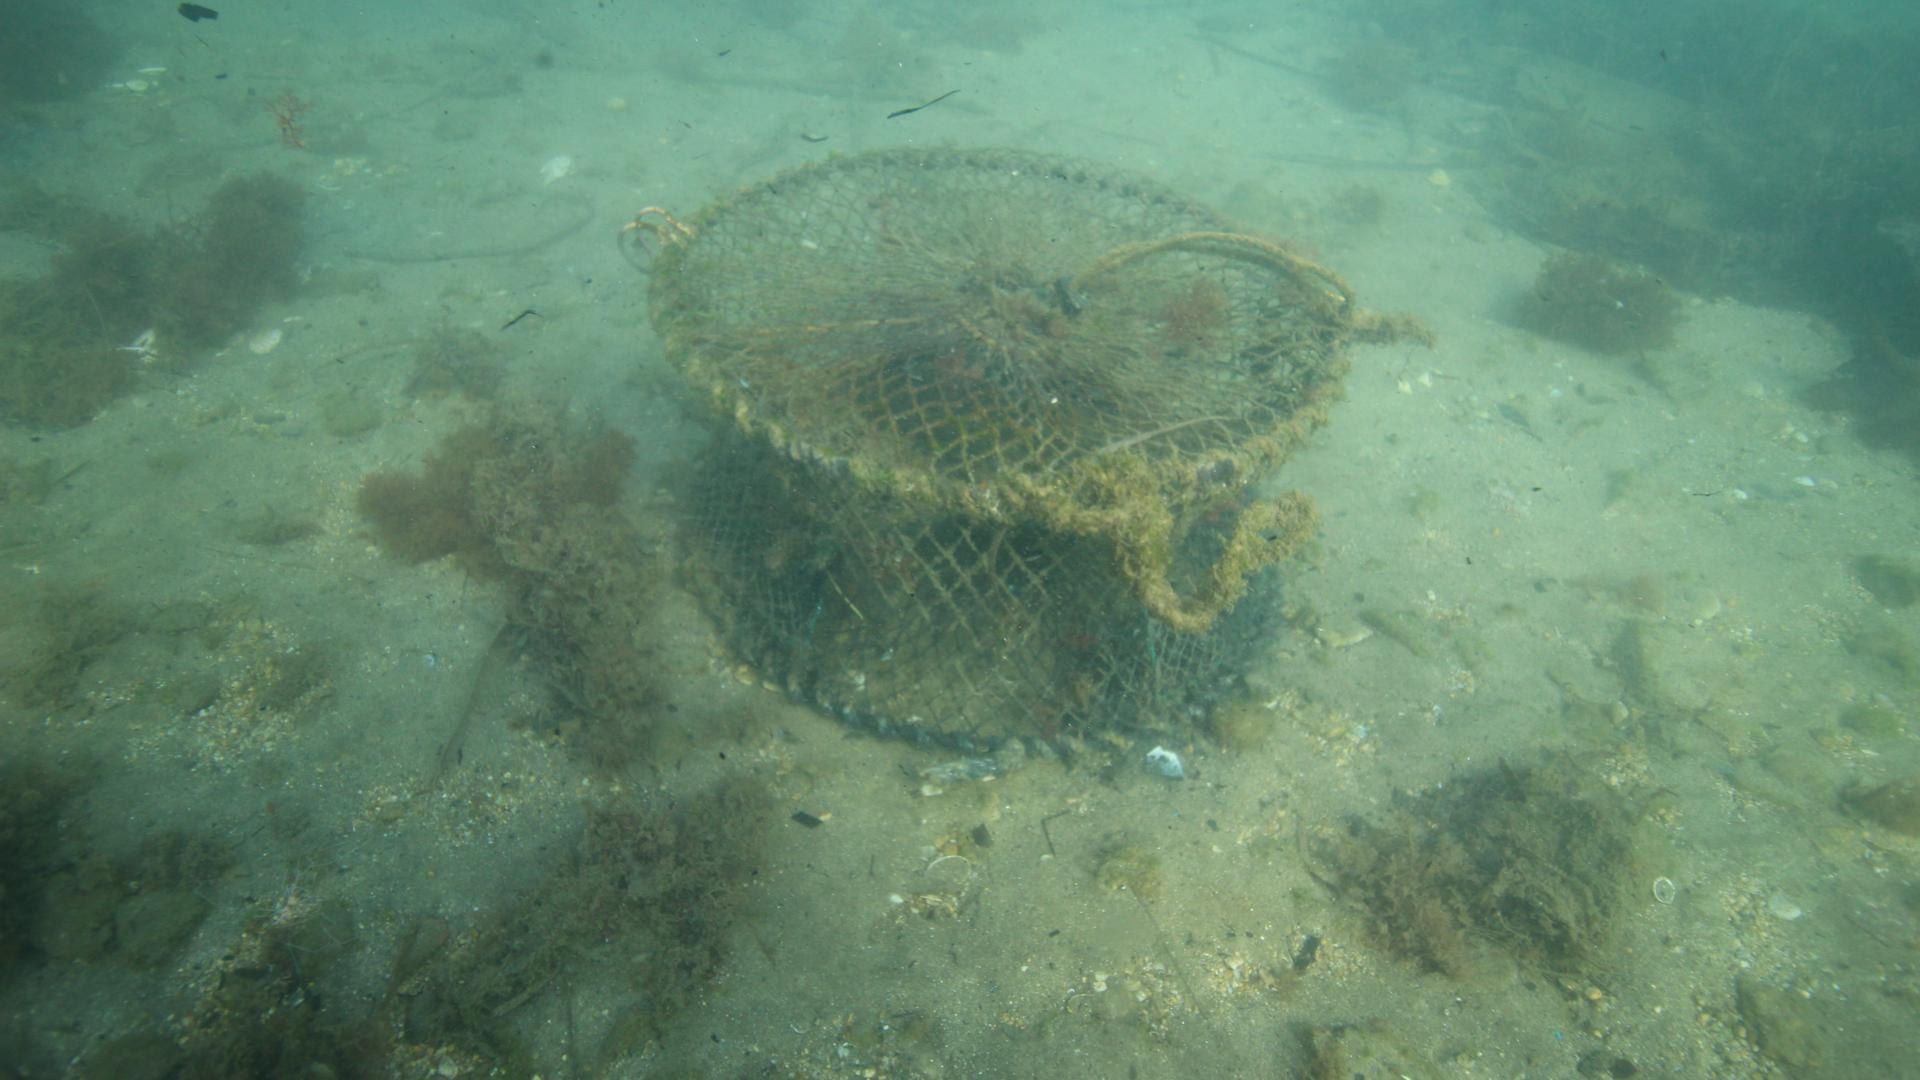circular fish trap: (649, 146, 1356, 761)
